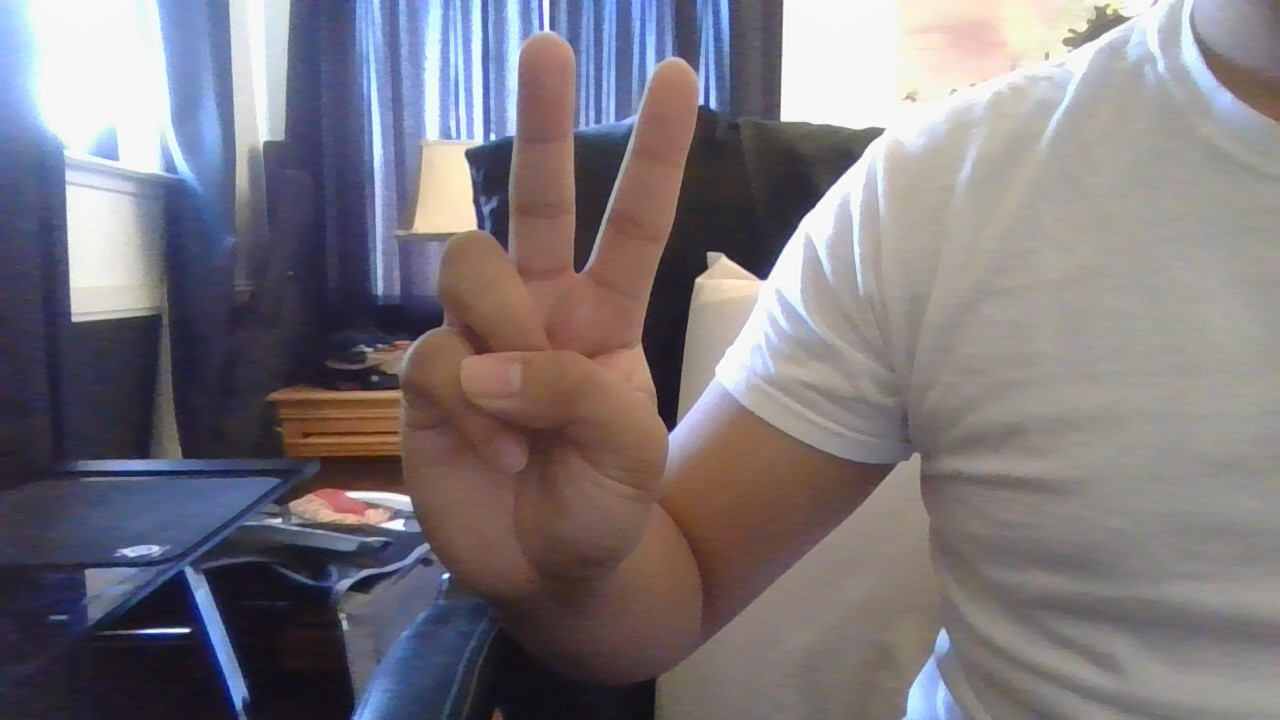v: (365, 1, 730, 631)
